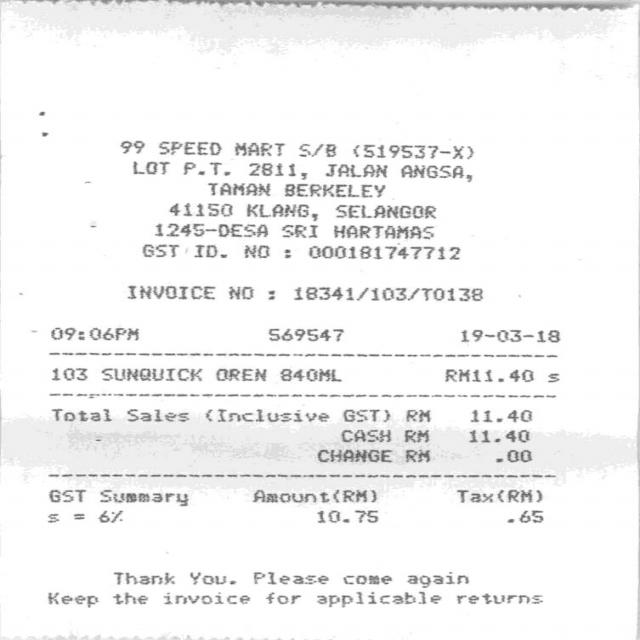text: (308, 242, 459, 260), (292, 286, 481, 300), (314, 590, 439, 606), (350, 143, 472, 158), (204, 408, 328, 422), (152, 222, 265, 237), (250, 489, 376, 502), (101, 367, 201, 382), (99, 489, 187, 506), (282, 183, 384, 197), (444, 367, 533, 383), (334, 204, 434, 218), (332, 224, 432, 238), (460, 328, 558, 342), (244, 203, 316, 221), (124, 285, 213, 299), (398, 164, 471, 181), (315, 447, 391, 462), (453, 489, 540, 502), (161, 591, 247, 604), (252, 570, 326, 584), (454, 592, 540, 604), (404, 571, 467, 587), (267, 327, 342, 340), (247, 163, 305, 179), (322, 163, 386, 177), (157, 141, 220, 155), (205, 181, 268, 195), (168, 202, 231, 216), (112, 570, 174, 584), (316, 508, 377, 522), (470, 408, 530, 422), (124, 408, 188, 421), (52, 408, 110, 422), (466, 429, 528, 442), (46, 592, 97, 607), (280, 369, 338, 382), (231, 142, 282, 156), (217, 368, 266, 382), (180, 162, 228, 176), (340, 408, 388, 422), (187, 570, 234, 584), (339, 429, 389, 442), (91, 327, 138, 340), (505, 508, 541, 522), (48, 368, 86, 381), (340, 574, 389, 584), (132, 160, 168, 173), (279, 224, 315, 237), (495, 449, 531, 462), (48, 488, 84, 501), (110, 591, 146, 604), (297, 144, 335, 156), (140, 244, 178, 256), (264, 591, 298, 604), (192, 244, 224, 257), (51, 327, 82, 340), (226, 285, 253, 299), (402, 448, 428, 462), (401, 429, 428, 442), (403, 408, 428, 422), (241, 244, 267, 257), (97, 508, 121, 522), (117, 140, 142, 153), (44, 512, 58, 522), (547, 372, 559, 383), (281, 249, 289, 258), (267, 289, 274, 299), (72, 512, 82, 518)
